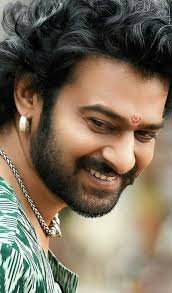noMask: (2, 3, 169, 219)
